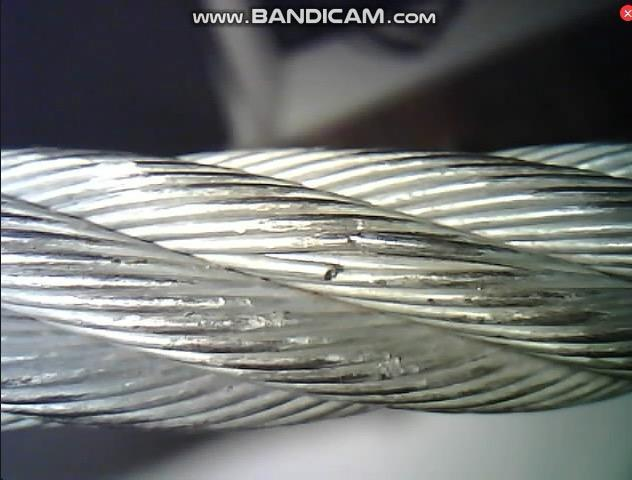break: (299, 230, 379, 295)
